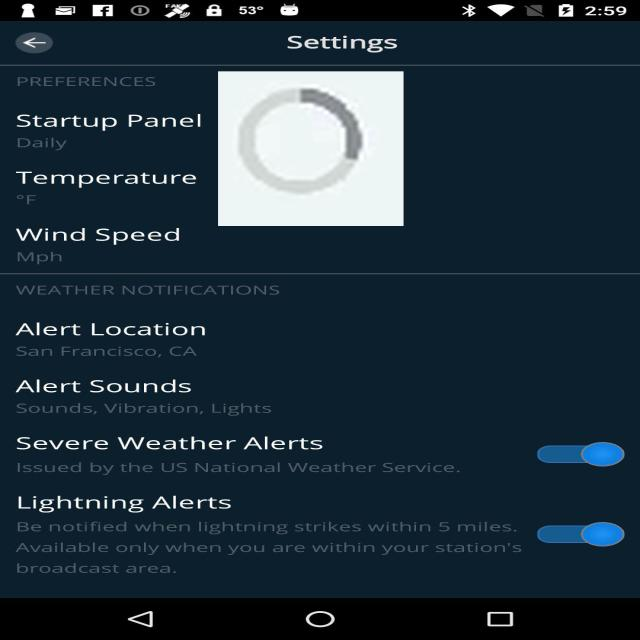misdirection: (218, 71, 404, 226)
